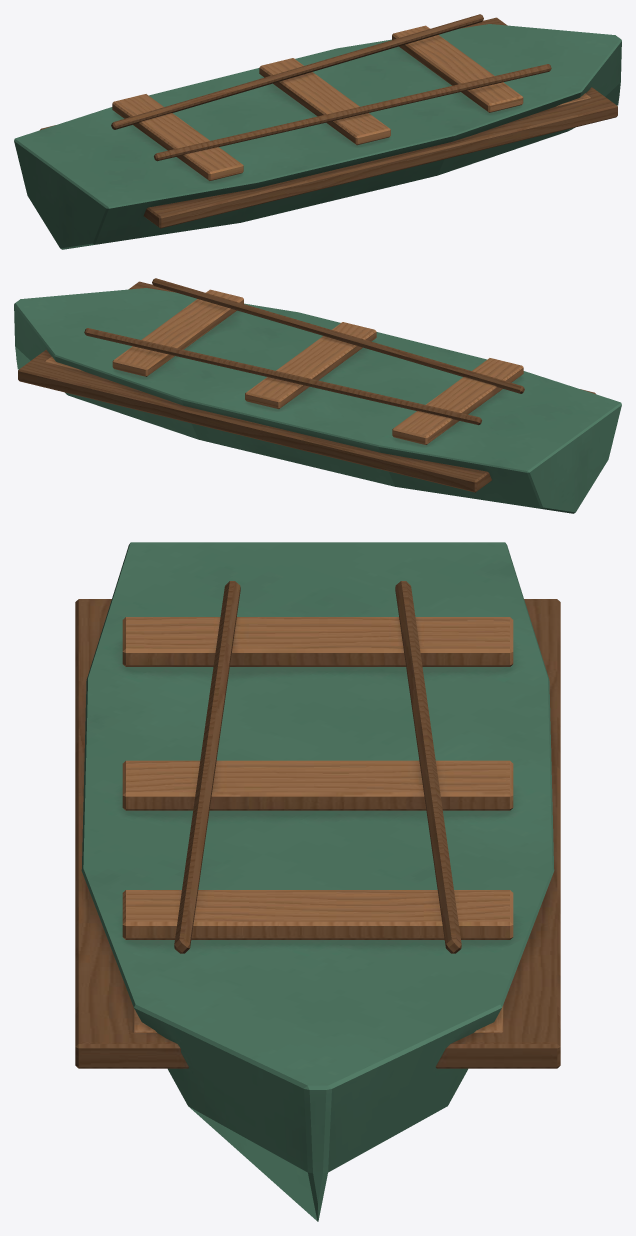
The model's file is eka_gron_tex.glb.
3 renders of one model, top to bottom at view 1: azimuth 30°, elevation 25°; view 2: azimuth 150°, elevation 25°; view 3: azimuth 270°, elevation 25°, orthographic. The views are drawn at different scales.
Visible parts, largest first — view 1: eka_gron; view 2: eka_gron; view 3: eka_gron.
Part boxes in pixels (x1,y1,x2,y2): eka_gron: [14, 14, 621, 249]; eka_gron: [14, 278, 621, 513]; eka_gron: [75, 542, 560, 1221].
Size of the model in its own units: 3.8 by 0.719 by 1.43.
3 materials, 3 textured.
